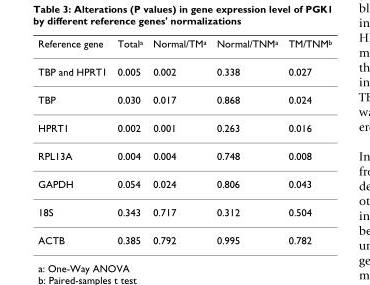table: (37, 37, 331, 245)
table column: (37, 37, 111, 245), (210, 37, 282, 245), (147, 37, 210, 245), (282, 37, 331, 245), (111, 37, 147, 245)
table column header: (37, 37, 331, 57)
table row: (37, 57, 331, 85), (37, 85, 331, 113), (37, 113, 331, 141), (37, 141, 331, 169), (37, 169, 331, 197), (37, 197, 331, 225), (37, 37, 331, 57), (37, 225, 331, 245)
